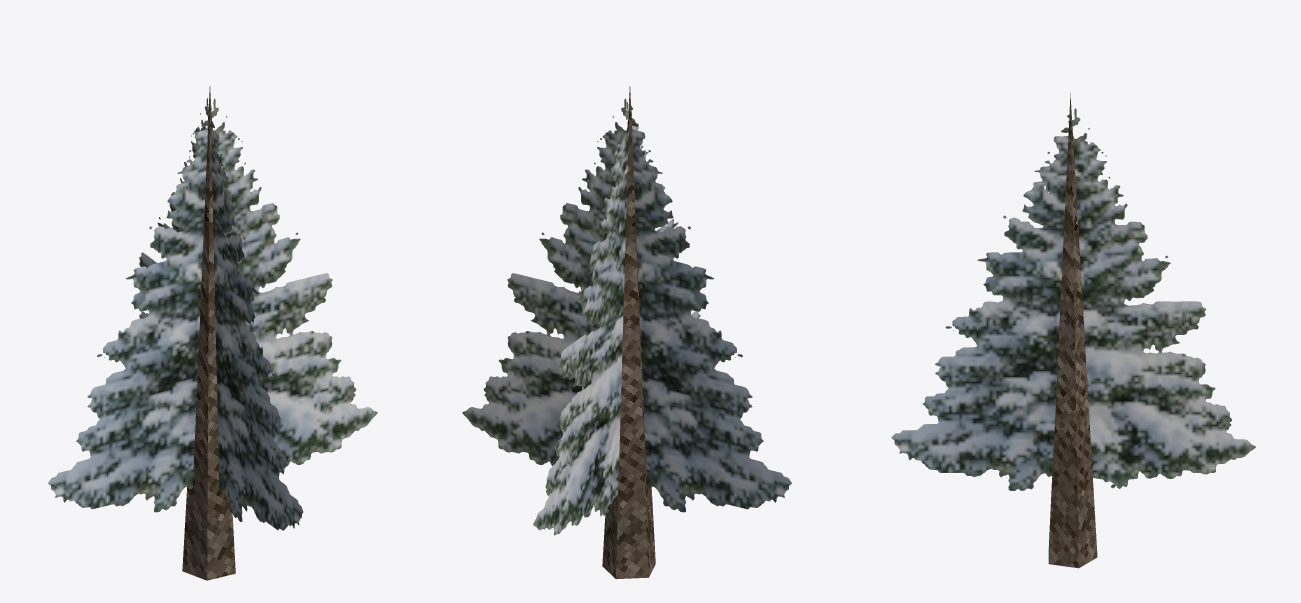
Rendered from PineTree1.fbx.
The picture shows the model from 3 angles, left to right: view 1: azimuth 30°, elevation 25°; view 2: azimuth 150°, elevation 25°; view 3: azimuth 270°, elevation 25°; orthographic projection. The views are drawn at different scales.
Parts seen in each view (by area): view 1: Plane, Plane.001, Cone; view 2: Plane, Plane.001, Cone; view 3: Plane.001, Cone.
Boxes of the visible parts, x1,y1,x2,y2 form: Plane: (48,98,377,512); Plane.001: (139,98,303,530); Cone: (182,86,235,580); Plane: (462,98,791,512); Plane.001: (533,102,700,535); Cone: (602,86,655,579); Plane.001: (891,108,1255,490); Cone: (1048,93,1097,568).
Bounding box in the file's own units: 1600 × 1896 × 1600.
Materials: 2 (2 with a texture image).
